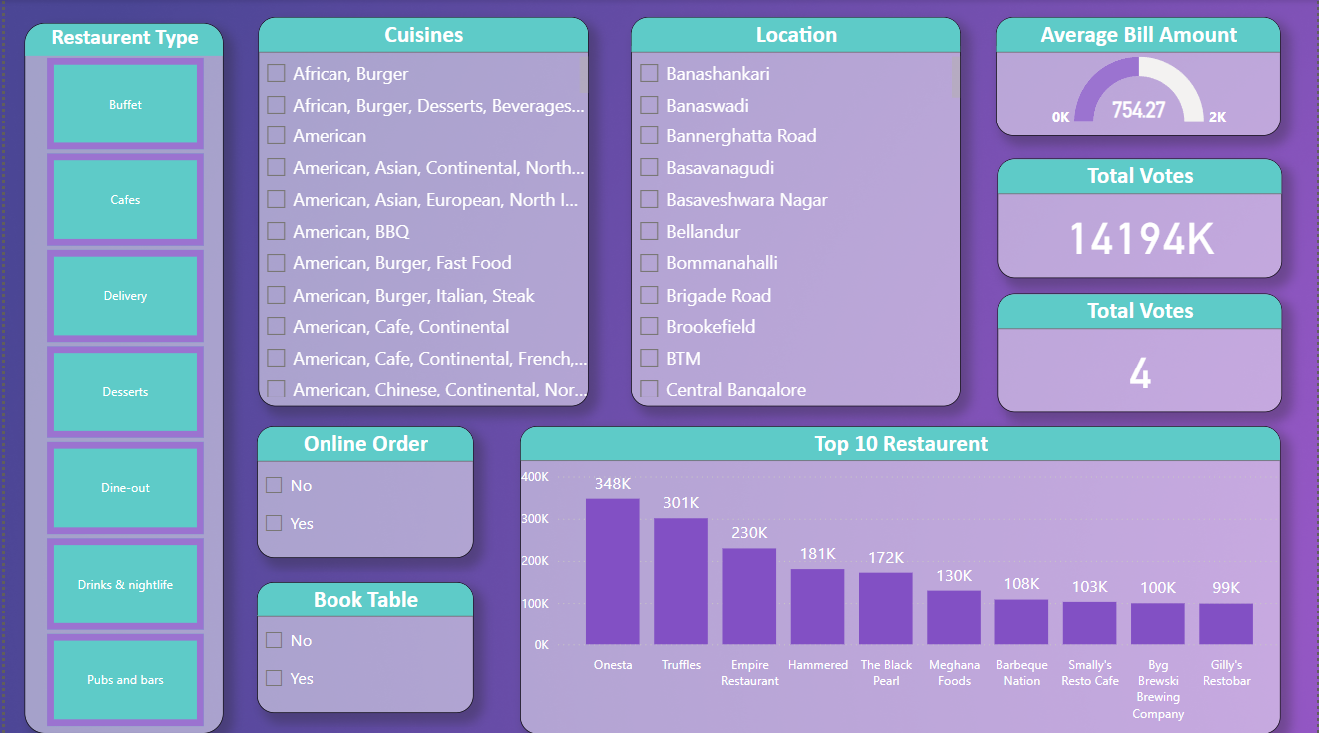

The page's visual inventory and layout, read from the dashboard file:
{"tool":"powerbi","page":{"name":"Page 1","canvas":[1280,720],"ordinal":0},"visuals":[{"type":"slicer","title":"Restaurent Type","fields":{"Values":["zomato.listed_in(type)"]},"box":[19,23.4,194.2,695.2],"z":0},{"type":"gauge","fields":{"Y":["zomato.Average Cost"]},"box":[967.6,18.2,277.1,116.6],"z":1000},{"type":"card","title":"Total Votes","fields":{"Values":["zomato.Total Votes"]},"box":[969.1,156,277.1,116.6],"z":2000},{"type":"card","title":"Total Votes","fields":{"Values":["zomato.Average Rating"]},"box":[969.1,287.7,277.1,116.6],"z":3000},{"type":"columnChart","title":"Top 10 Restaurent","fields":{"Category":["zomato.name"],"Y":["Sum(zomato.votes)"]},"box":[502.7,417.9,742,301.3],"z":4000},{"type":"slicer","title":"Book Table","fields":{"Values":["zomato.book_table"]},"box":[245.3,569.3,212,128.7],"z":5000},{"type":"slicer","title":"Online Order","fields":{"Values":["zomato.online_order"]},"box":[245.3,417.9,212,128.7],"z":6000},{"type":"slicer","title":"Cuisines","fields":{"Values":["zomato.cuisines"]},"box":[246.8,17.5,322.8,381.2],"z":7000},{"type":"slicer","title":"Location","fields":{"Values":["zomato.location"]},"box":[610.5,17.5,321.3,381.2],"z":8000}]}

Visuals, with their boxes in screenshot pixels (x1, y1, x2, y2), scaled from the page's 1280x720 canvas onto the 1319x733 screenshot:
"Restaurent Type" slicer: rect(20, 24, 220, 732)
gauge - zomato.Average Cost: rect(997, 19, 1283, 137)
"Total Votes" card: rect(999, 159, 1284, 278)
"Total Votes" card: rect(999, 293, 1284, 412)
"Top 10 Restaurent" columnChart: rect(518, 425, 1283, 732)
"Book Table" slicer: rect(253, 580, 471, 711)
"Online Order" slicer: rect(253, 425, 471, 556)
"Cuisines" slicer: rect(254, 18, 587, 406)
"Location" slicer: rect(629, 18, 960, 406)
